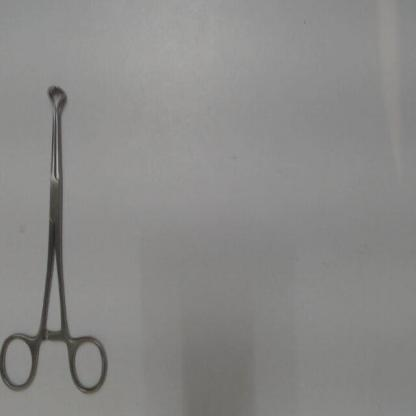Babcock Tissue Forceps: (1, 80, 113, 397)
